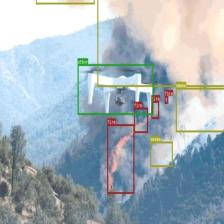fire: (107, 124, 134, 194), (134, 107, 148, 132), (151, 100, 159, 118), (164, 96, 168, 104)
smoke: (97, 0, 224, 86), (175, 87, 224, 132), (150, 142, 173, 166), (36, 0, 94, 4)
